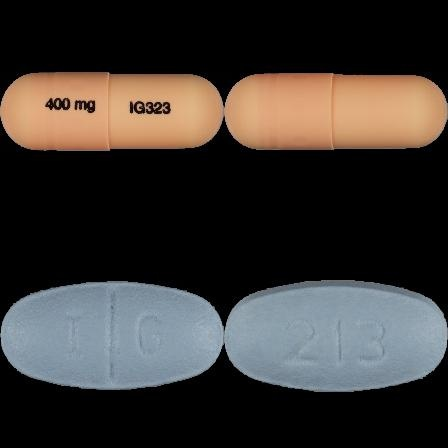45865-498: (0, 0, 224, 224)
